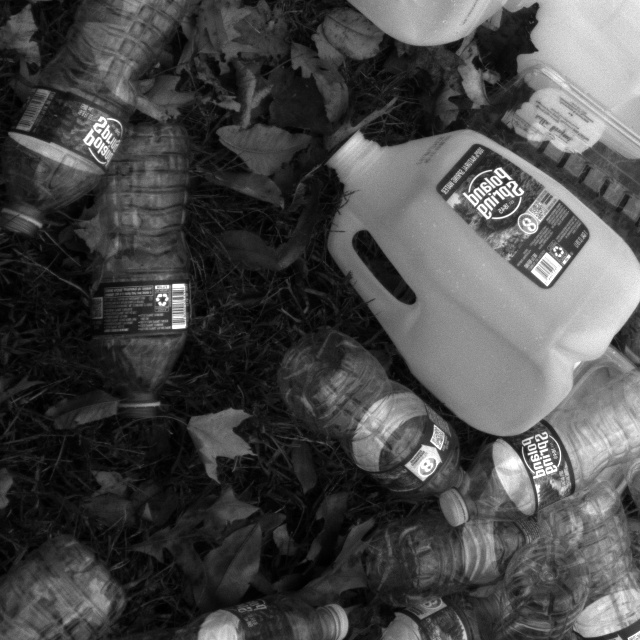bottle: (0, 0, 194, 235), (269, 323, 483, 508), (85, 122, 197, 424), (443, 362, 640, 531), (531, 479, 640, 640), (340, 515, 545, 586), (0, 533, 131, 640)
can: (319, 121, 640, 438), (509, 0, 640, 156)
